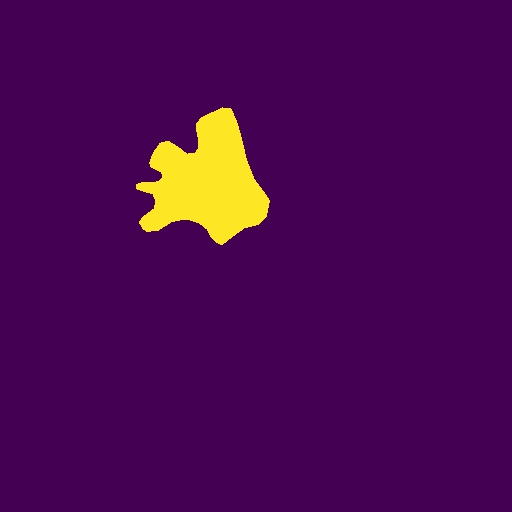Gliomia_tumour: (136, 107, 270, 245)
